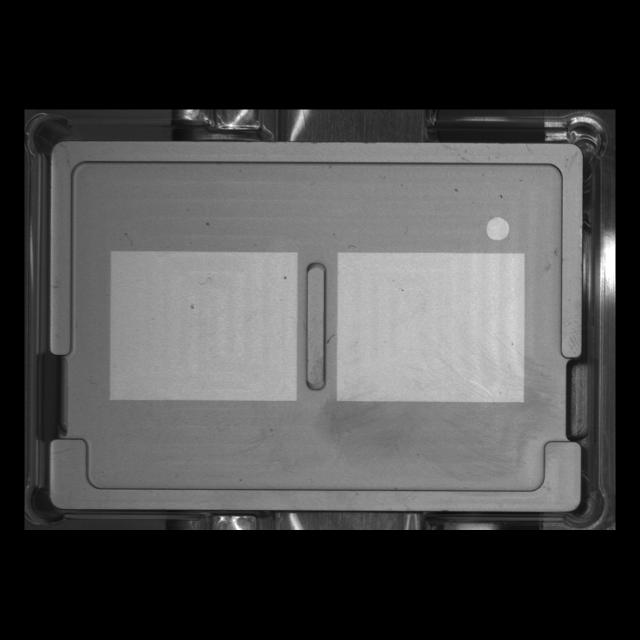door: (39, 426, 593, 522)
point: (484, 213, 514, 244)
